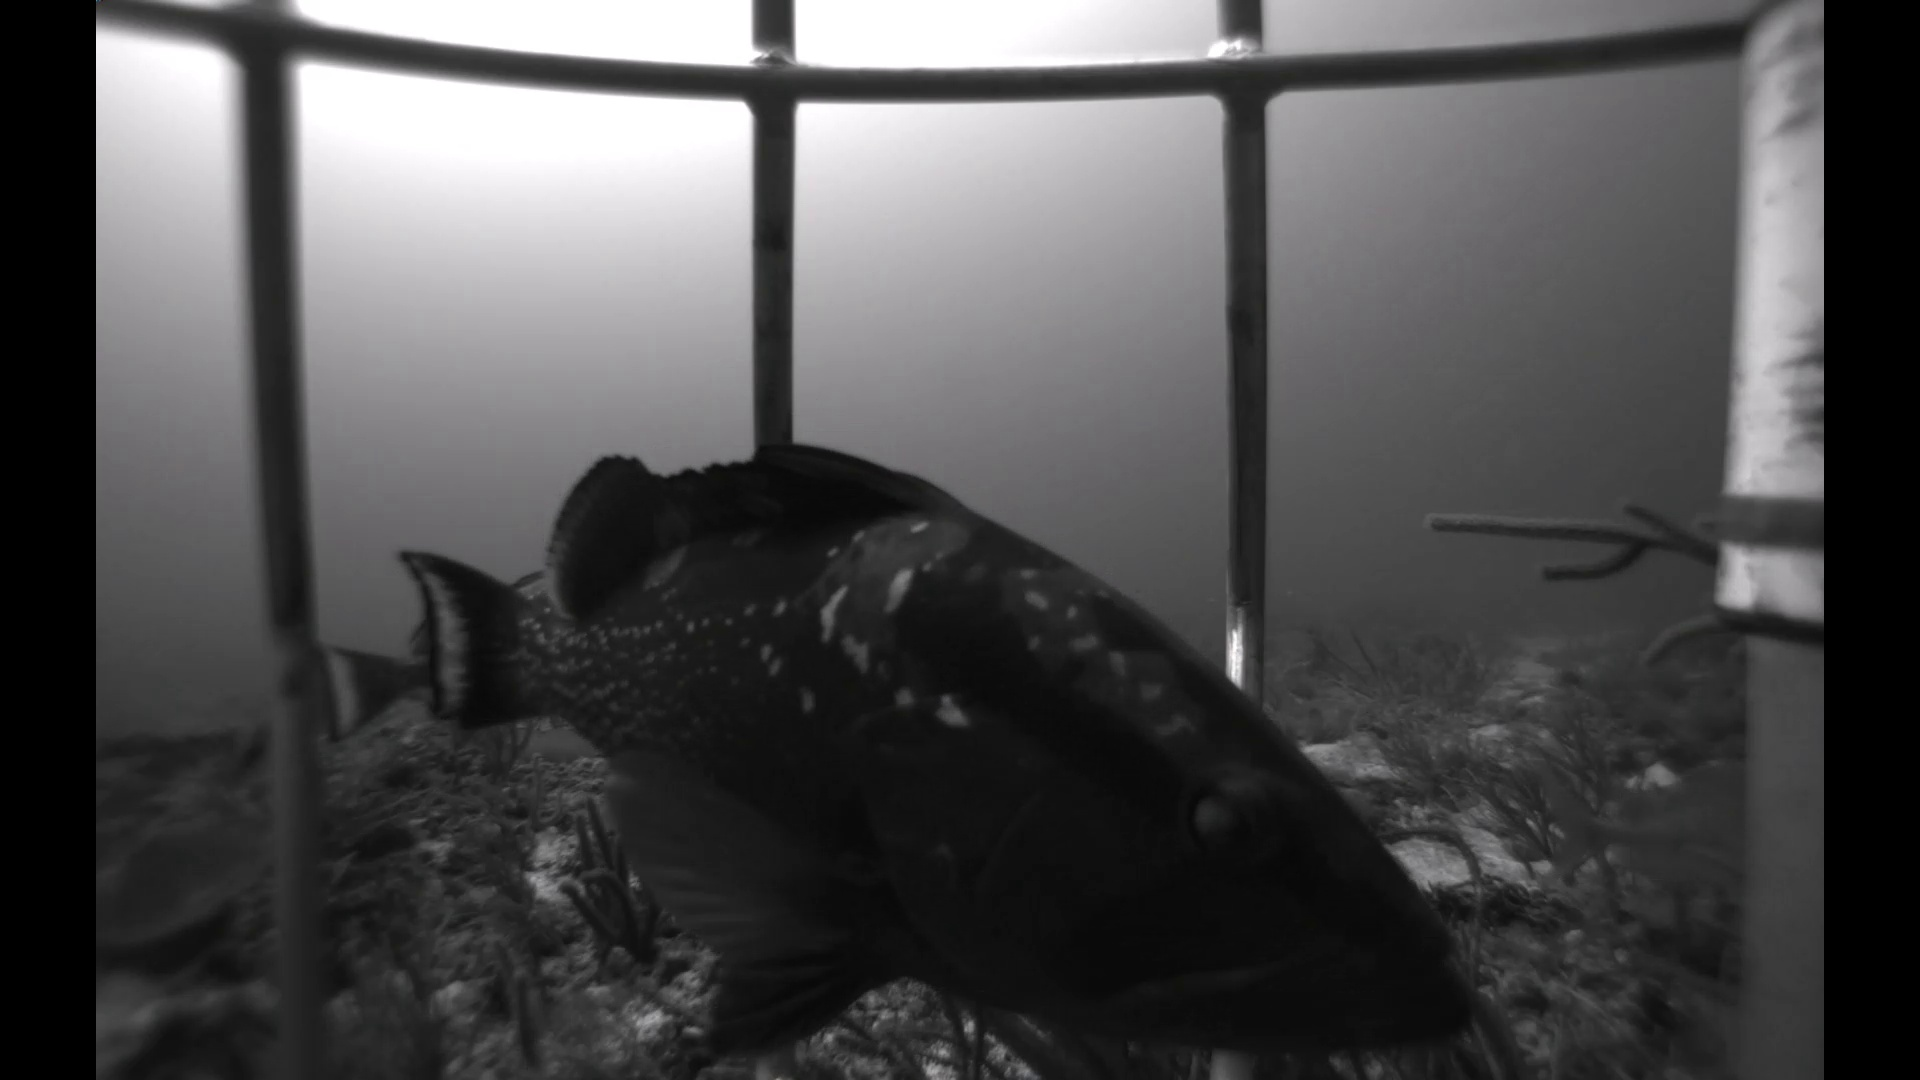CALAMUSNODOSUS-170210608: (1524, 749, 1749, 913), (105, 787, 272, 960)
EPINEPHELUSMORIO-170021211: (384, 405, 1494, 1080), (303, 556, 566, 752)
LUTJANUSGRISEUS-170151109: (219, 694, 334, 796)
